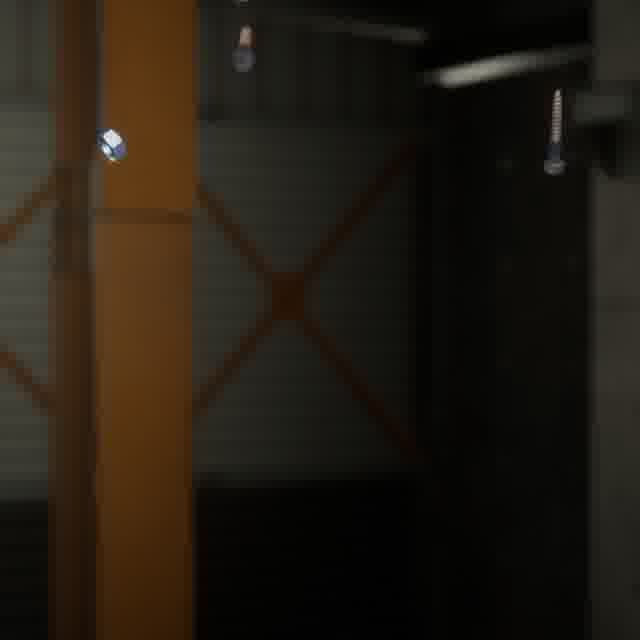bolt: (539, 84, 569, 179), (225, 22, 260, 77)
nut: (92, 124, 131, 164)
